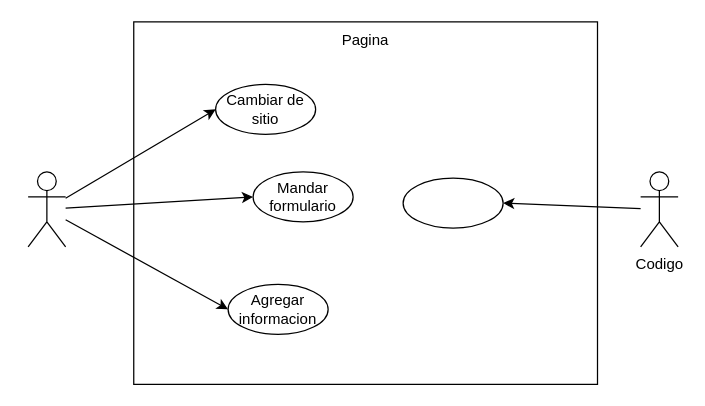
The diagram is 705 pixels wide and 406 high, and some of its shapes have lost their labels. The shapes that lost their labels are listed below. From the top down, each one's box as (x1, y1, x2, y2) in pixels, then its label:
(27, 171, 66, 247): Usuario
(402, 177, 503, 228): Validar Formulario
